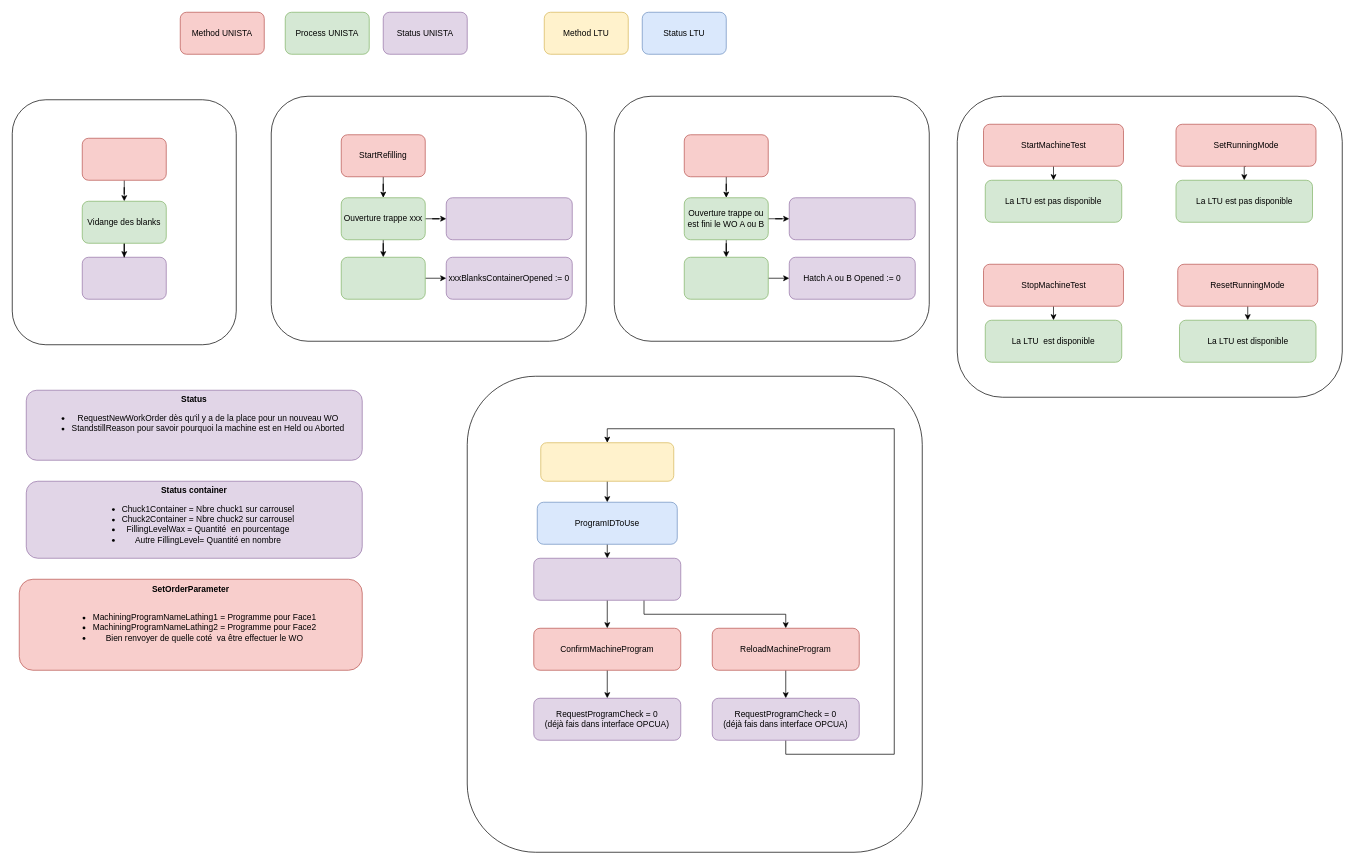
Some shapes in this 1355 by 865 pixel diagram are drawn without their labels. Each missing label, with the box of its shape:
Avant de lancer une LTU chargement programme: (467, 376, 922, 852)
Chargement matiere: (271, 96, 586, 341)
ClearanceDone :=1: (82, 257, 166, 299)
EmptyContainer: (82, 138, 166, 180)
Fermeture trappe ou est fini le WO A ou B: (684, 257, 768, 299)
Fermeture trappe xxx: (341, 257, 425, 299)
Hatch A ou B Opened := 1: (789, 197, 915, 240)
LTU disponibilitées: (957, 96, 1342, 397)
Ouverture trappe WorkOrder fini: (614, 96, 929, 341)
ReleaseDepot: (684, 134, 768, 177)
RequestProgramCheck = 1: (533, 558, 681, 600)
SetProgramID: (540, 442, 674, 481)
Vidage blanks: (12, 99, 236, 345)
xxxContainerOpened := 1: (446, 197, 572, 240)
